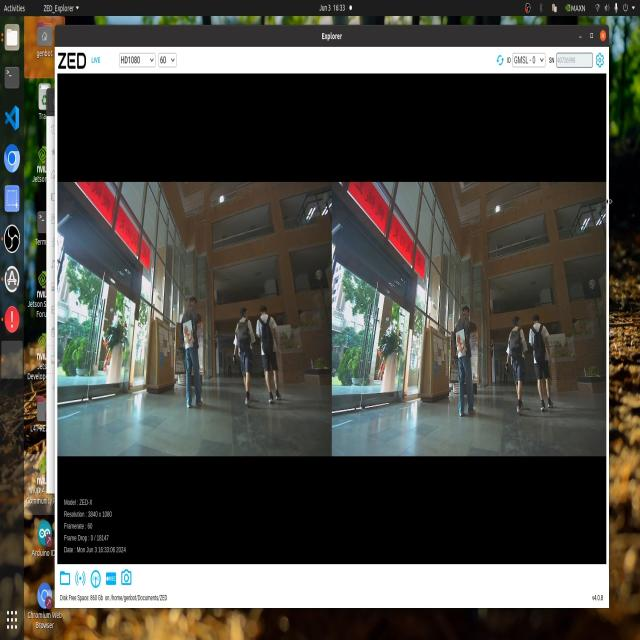red: (184, 318, 194, 350), (456, 330, 466, 359)
